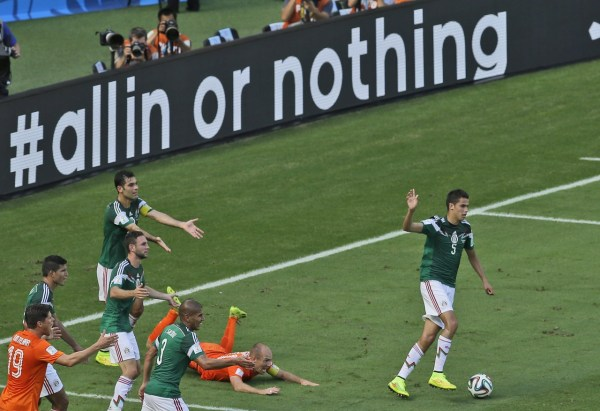fall: (164, 296, 322, 404)
